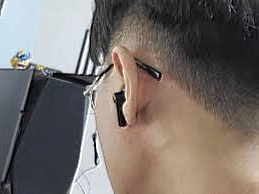earphone: (111, 47, 136, 128)
